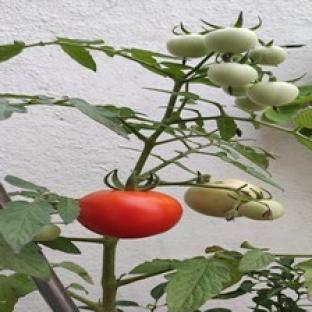Tomato: (78, 190, 182, 238), (184, 179, 261, 217), (205, 28, 257, 54), (247, 81, 299, 105), (208, 63, 257, 86), (166, 34, 208, 58), (239, 200, 284, 220), (250, 45, 288, 65), (234, 97, 267, 111), (34, 225, 61, 242), (222, 84, 250, 96)
